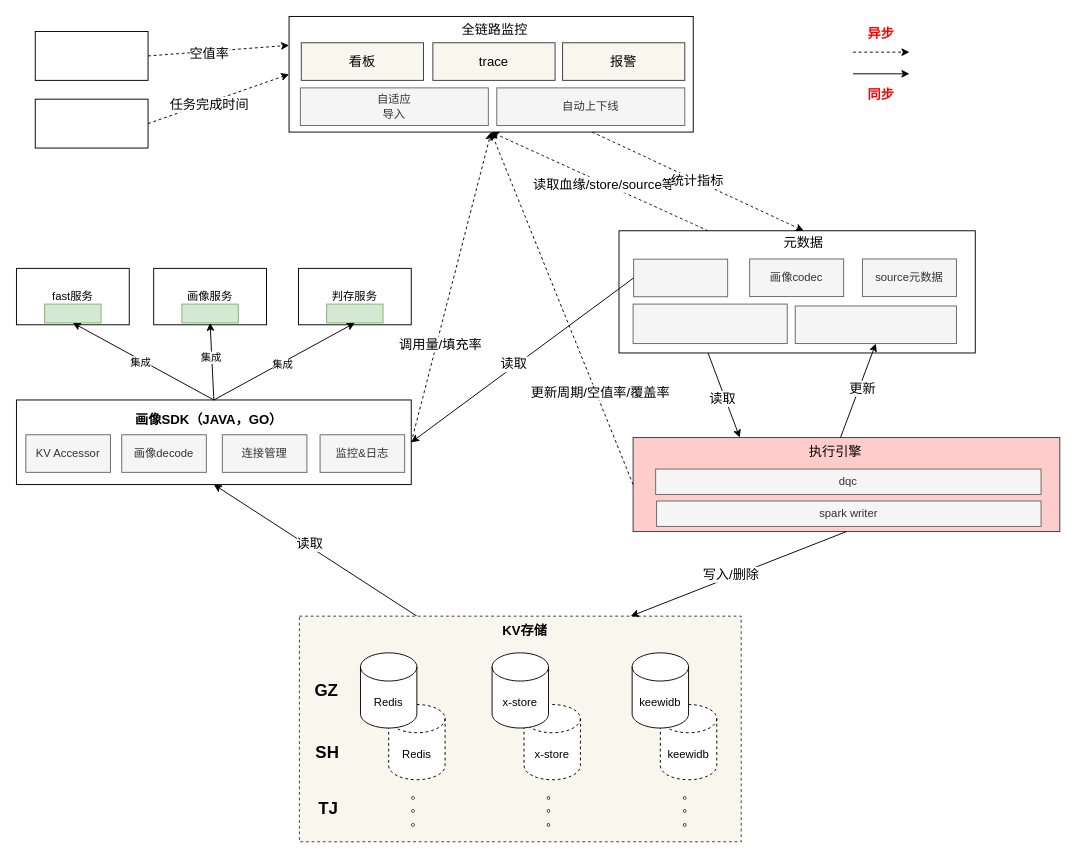
Some shapes in this 1076 by 858 pixel diagram are drawn without their labels. Here are the shapes that lost their labels. From the top down, the box of each, then its label:
(34, 31, 148, 80): 上报端
(34, 98, 148, 148): 画像挖掘
(633, 258, 728, 297): store元数据
(632, 303, 787, 344): 画像血缘
(794, 305, 956, 344): 离线任务管理
